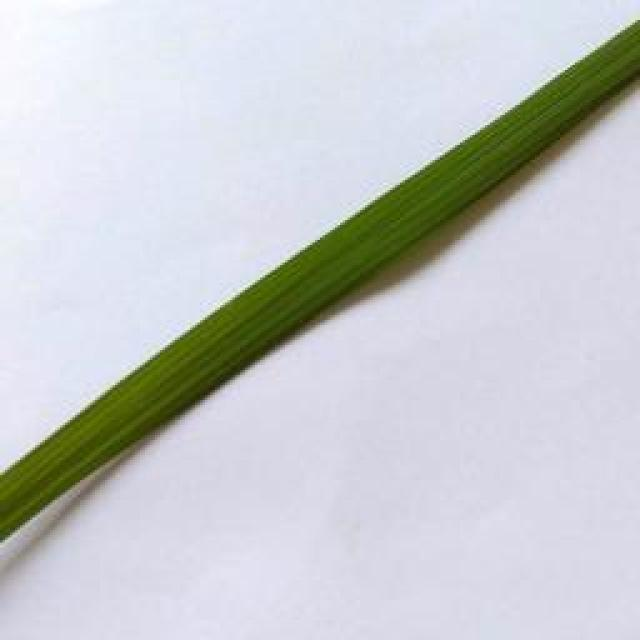Healthy-Plant: (0, 21, 640, 546)
